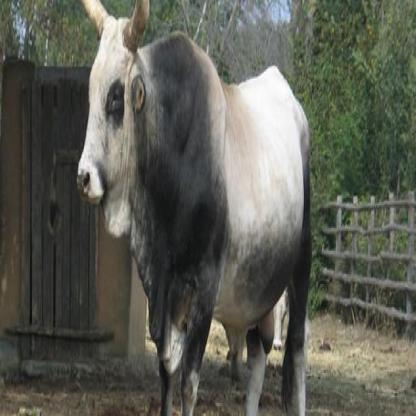cow: (79, 17, 311, 416)
